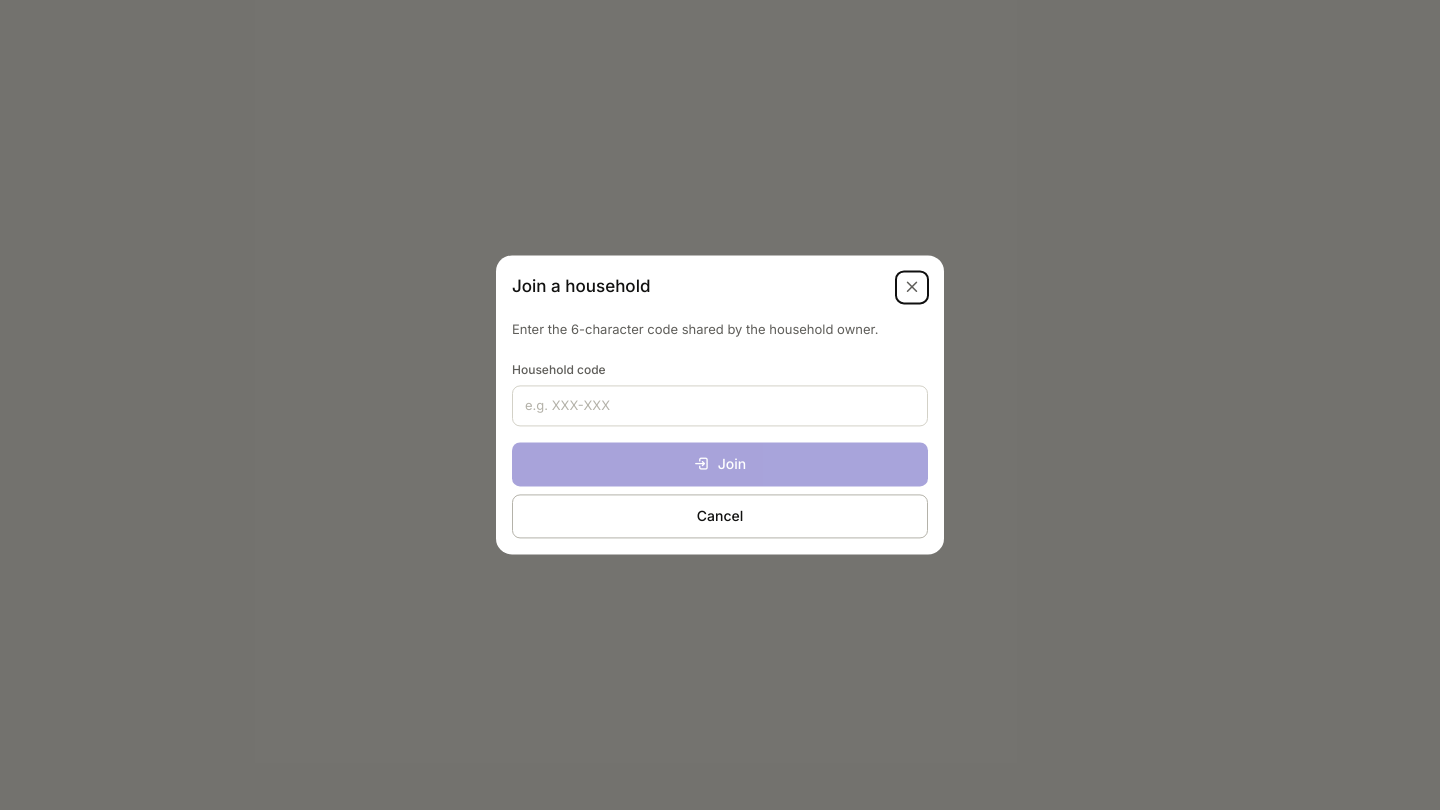
JoinHouseholdSheet › enables join button when valid code is entered
Type "ABC-123" into the field labelled "Household code" at (720, 406), box [512, 385, 928, 426]
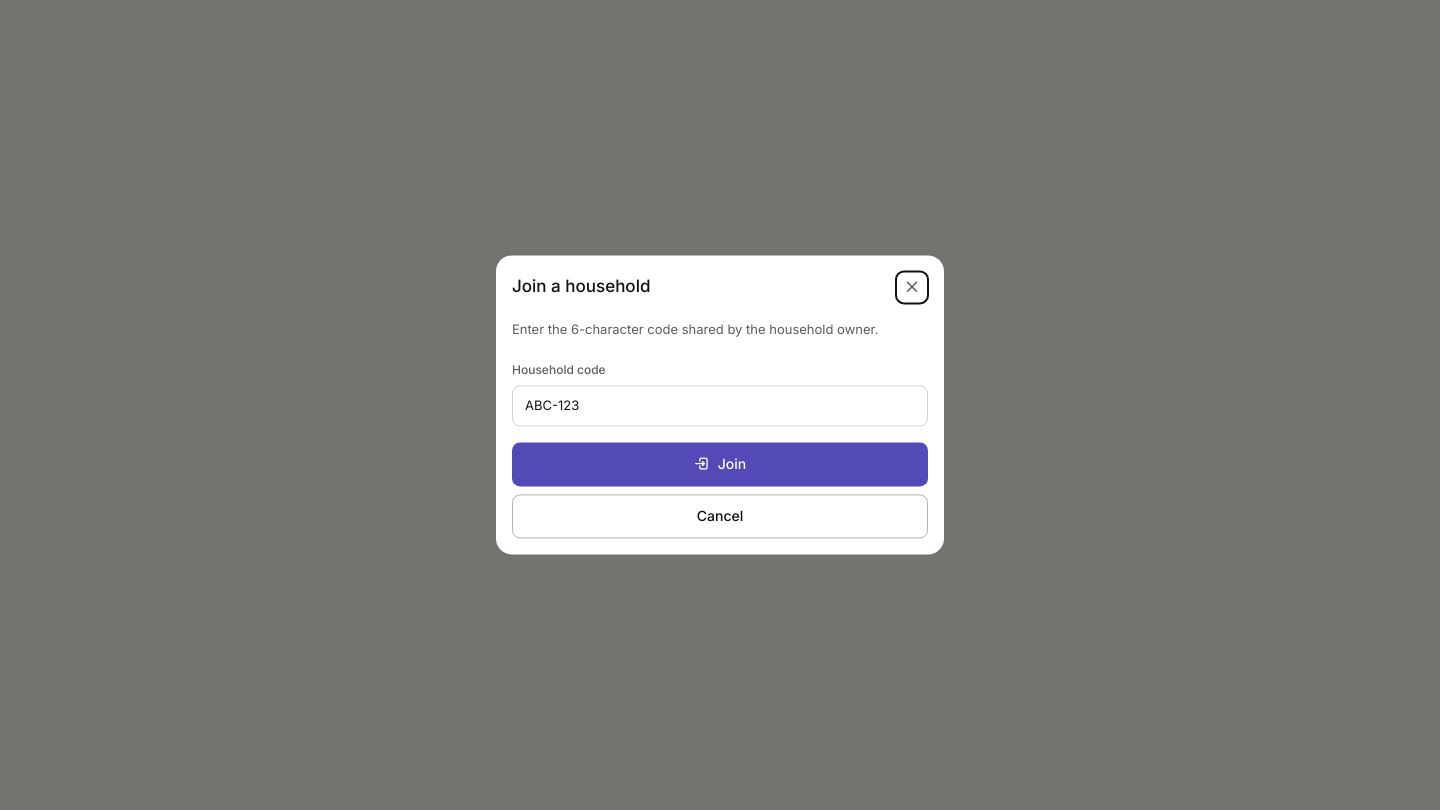
Check: the button "Join" is enabled, box [512, 442, 928, 486]
